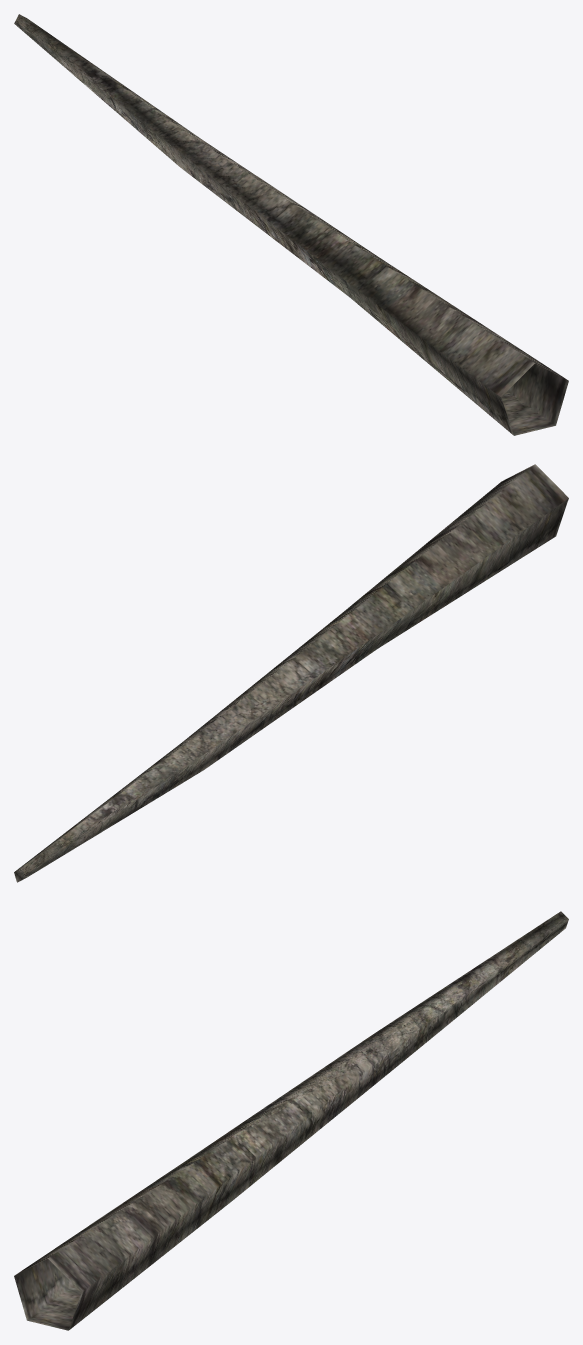
The model's file is tdr_h_stag_ceiling_a.obj.
3 renders of one model, top to bottom at view 1: azimuth 30°, elevation 25°; view 2: azimuth 150°, elevation 25°; view 3: azimuth 330°, elevation 25°, orthographic.
Parts seen in each view (by area): view 1: tdr_h_stag_ceiling_a; view 2: tdr_h_stag_ceiling_a; view 3: tdr_h_stag_ceiling_a.
Part boxes in pixels (left/top/right/bottom): tdr_h_stag_ceiling_a: left=14, top=14, right=568, bottom=435; tdr_h_stag_ceiling_a: left=14, top=464, right=568, bottom=882; tdr_h_stag_ceiling_a: left=14, top=911, right=568, bottom=1330.
Bounding box in the file's own units: 161 × 153 × 2125.
Materials: 1 (1 with a texture image).
